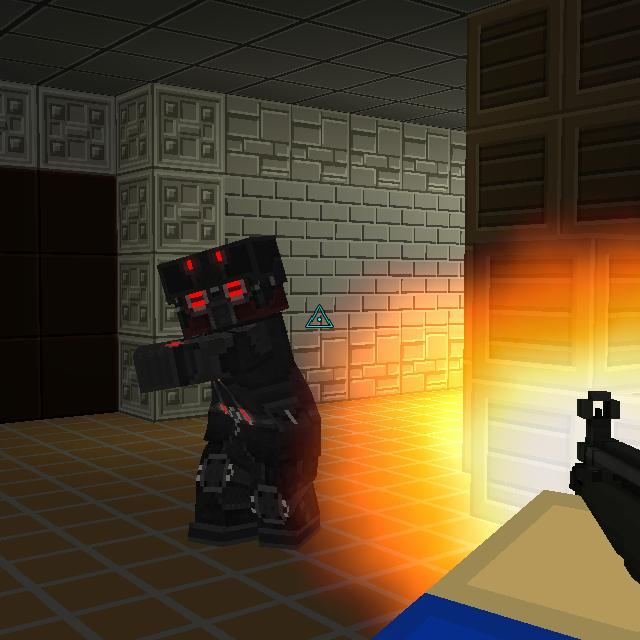enemy: (129, 221, 327, 557)
